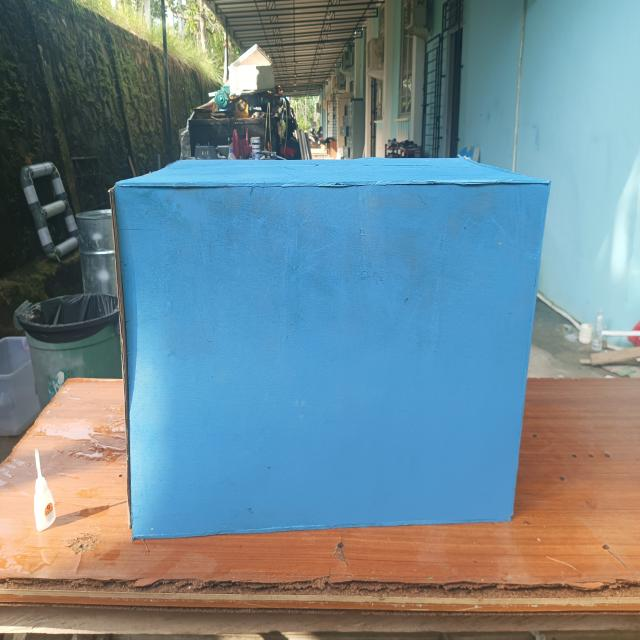blue_box: (74, 122, 556, 532)
